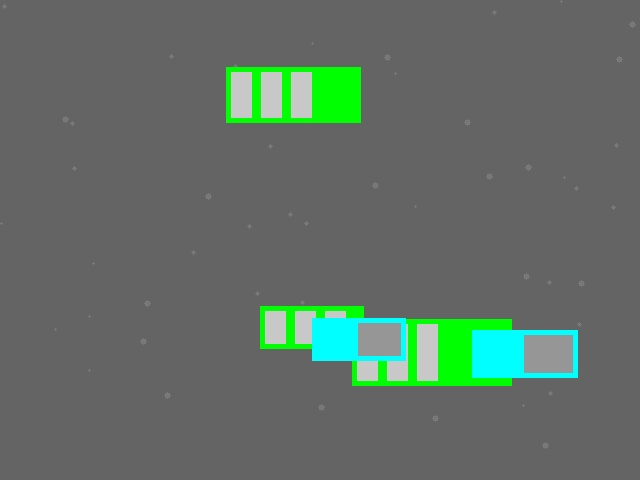bus: (352, 319, 511, 385), (226, 67, 360, 122), (260, 306, 363, 348)
truck: (472, 330, 577, 377), (312, 318, 405, 360)
